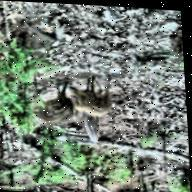boar: (32, 87, 80, 142), (69, 81, 111, 123), (79, 114, 99, 147)
